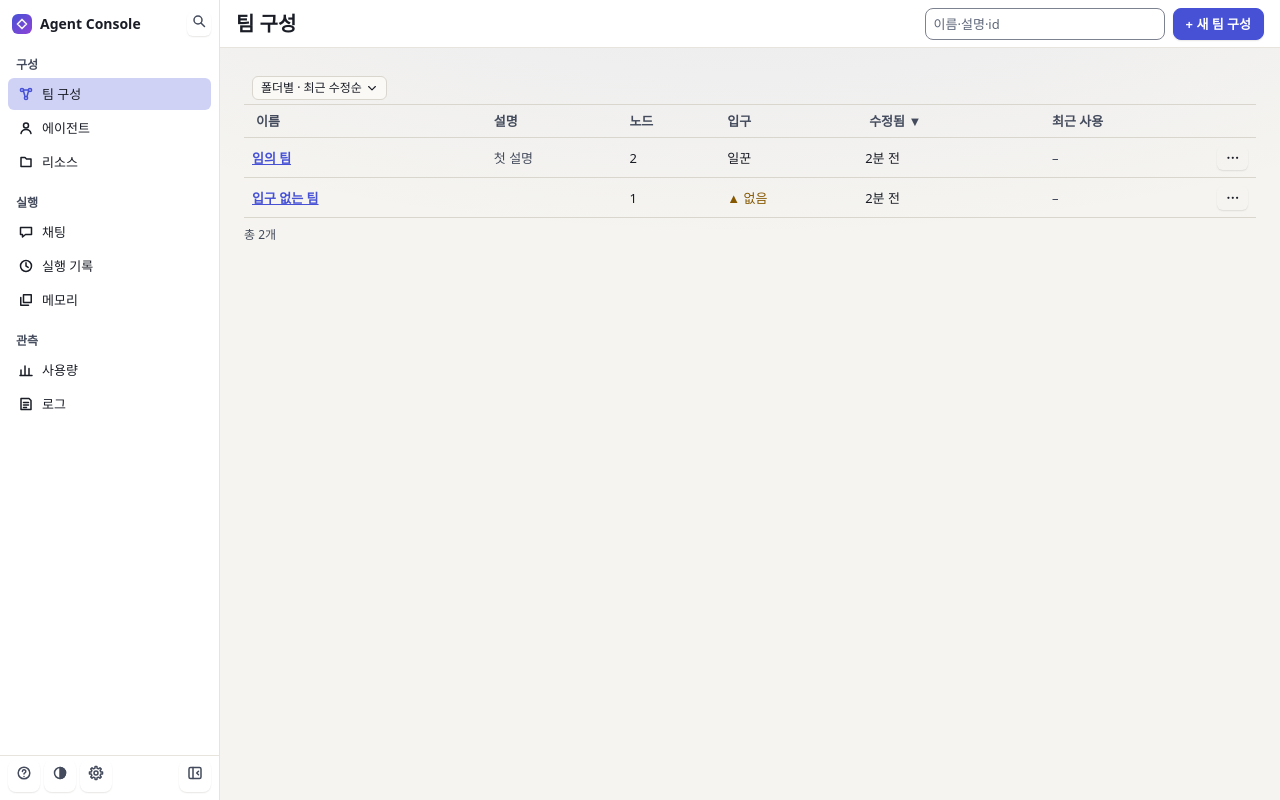
Test case: 팀 구성 목록 › id가 겹치면 즉시 인라인 오류를 보이고 만들 수 없다
The image size is (1280, 800).
Expected: the table named "팀 구성 목록" is shown, [244,105,1256,218]
Click the button "+ 새 팀 구성": (1218,24) [1173,8,1264,40]
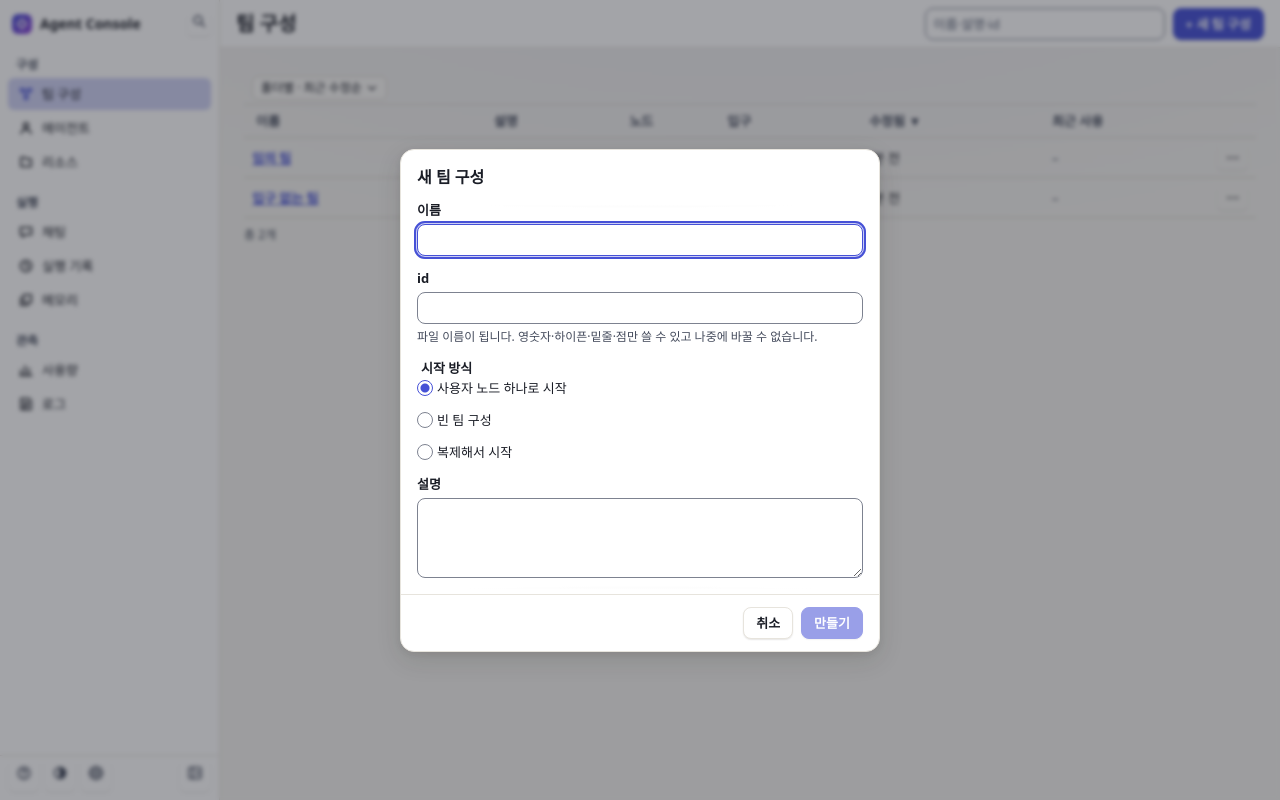
In the field labelled "이름": (640,240) [417,224,863,256], type "다른 이름"
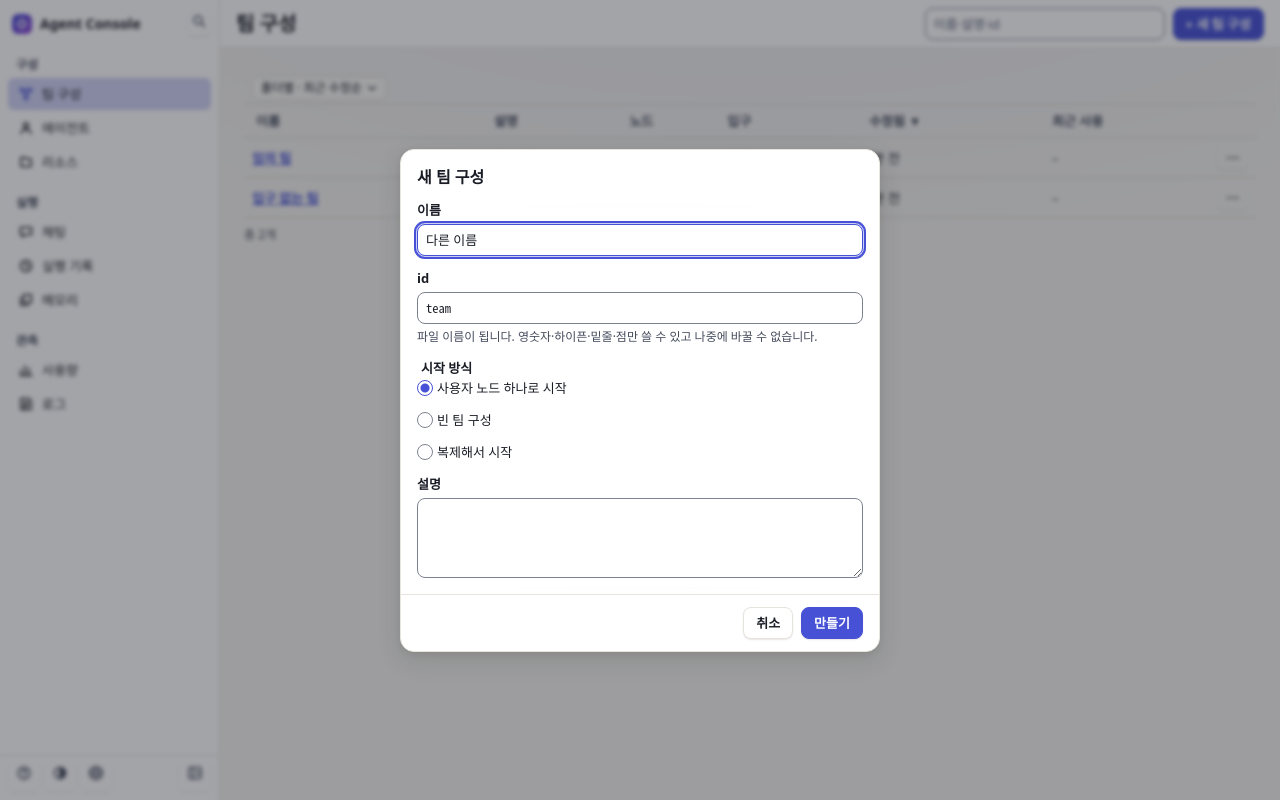
Replace the text in the field labelled "id" with "tm1": (640,308) [417,292,863,324]
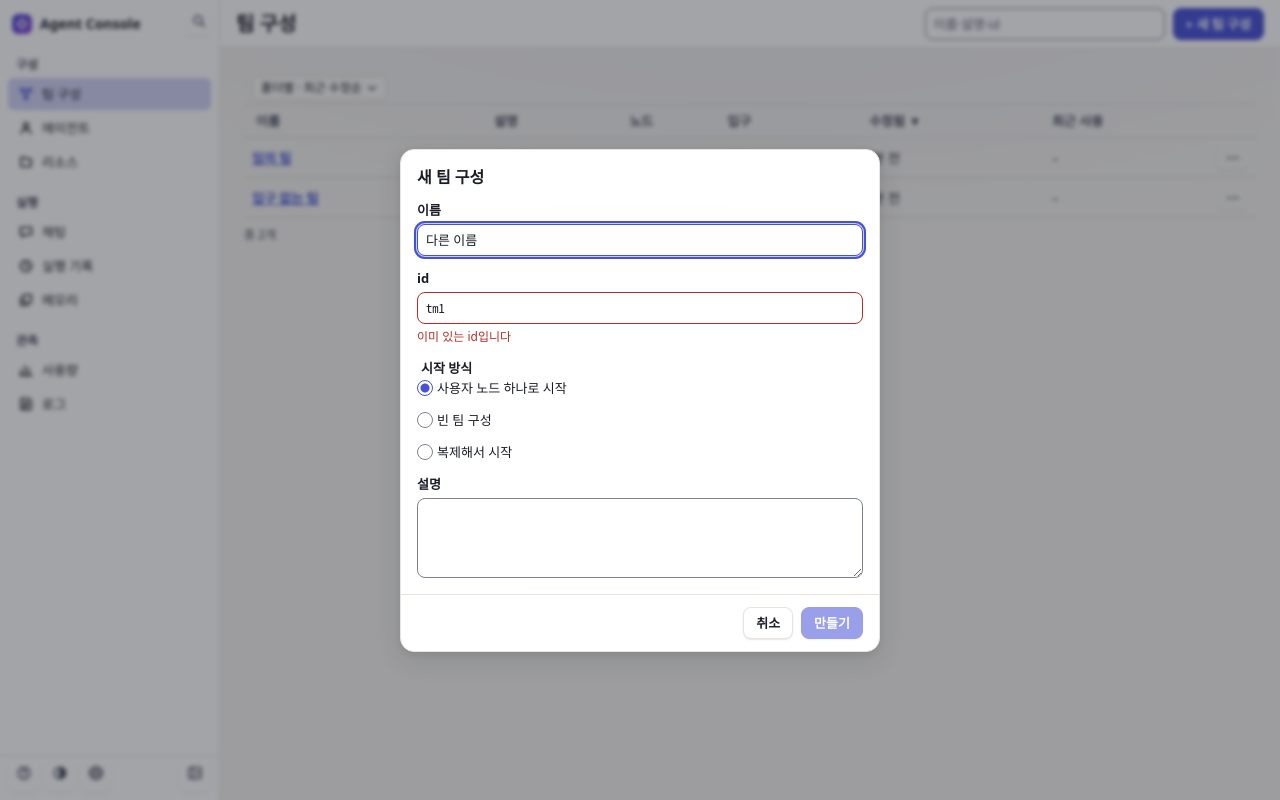
Expected: the text "이미 있는 id입니다" is shown, [417,328,511,344]
Expected: the button "만들기" is disabled, [801,606,863,638]
